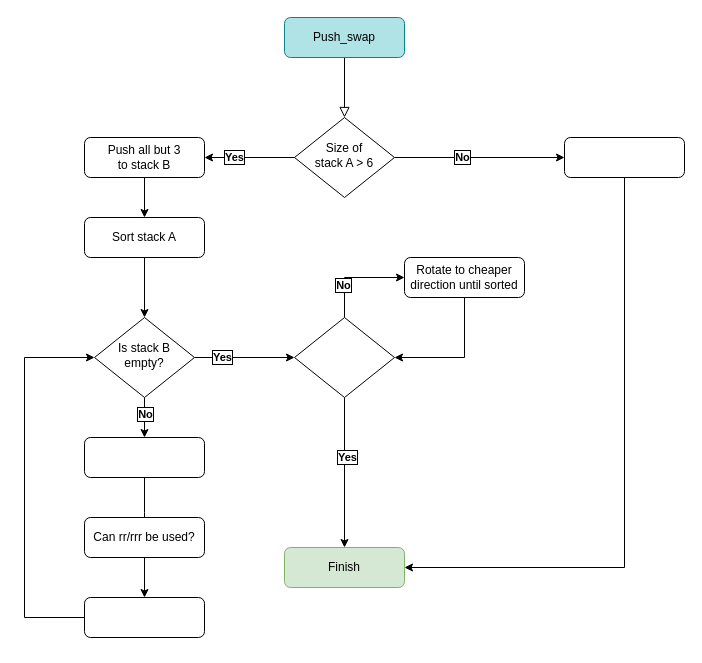
This 702x663 diagram has some shape labels left out. The centre of each missing label's shape, as x and y in pixels:
"Calculate cheapest move" belongs at (144,457).
"Execute move" belongs at (144,617).
"Is stack A sorted?" belongs at (344,357).
"Sort using tailored algorithm" belongs at (624,157).
